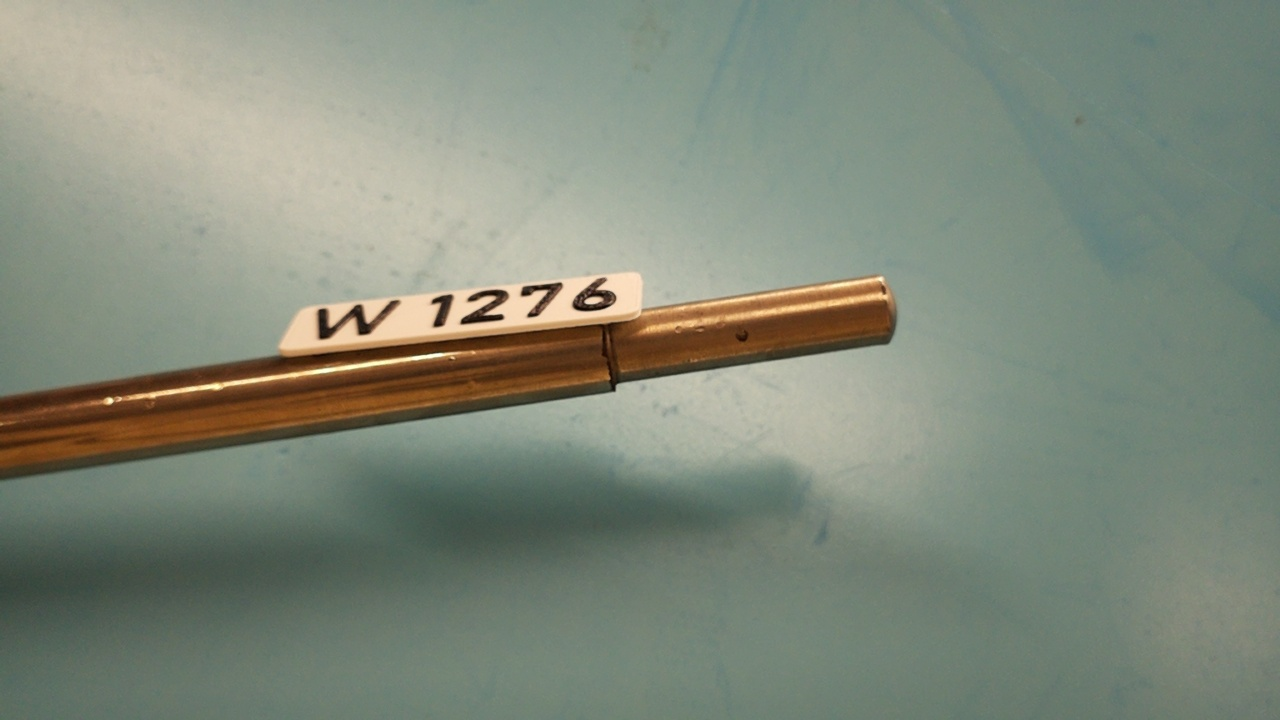license_plate: (277, 269, 644, 360)
